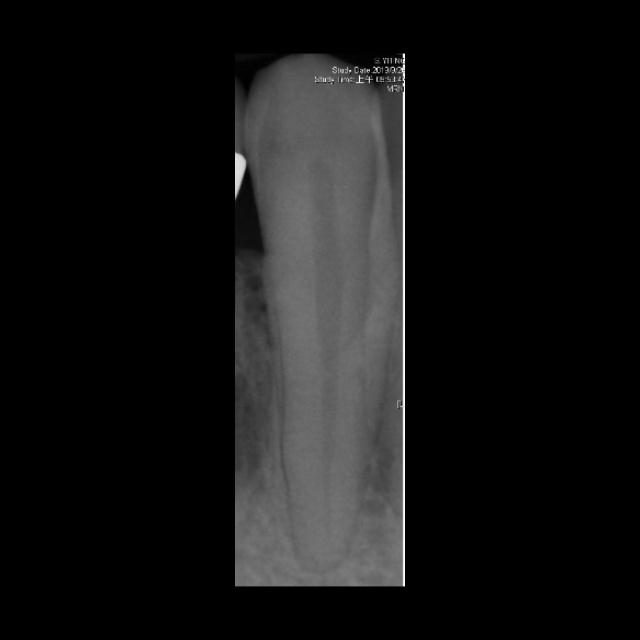tooth: (245, 55, 400, 568)
